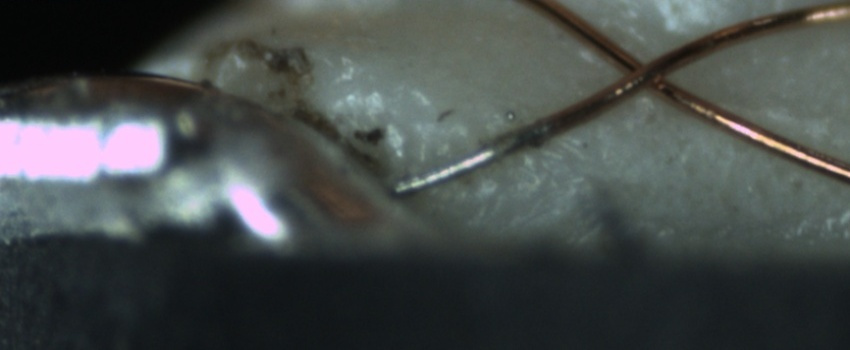CL: (597, 39, 692, 102)
TS: (391, 118, 546, 198)
